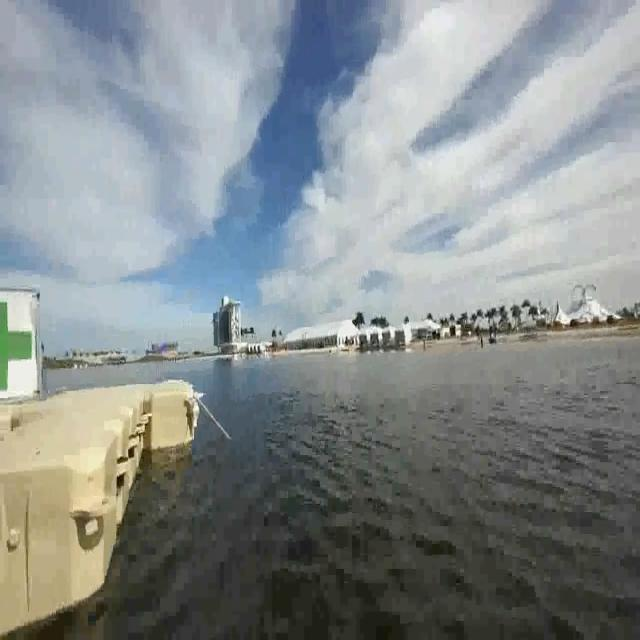blue-cross: (1, 286, 43, 399)
